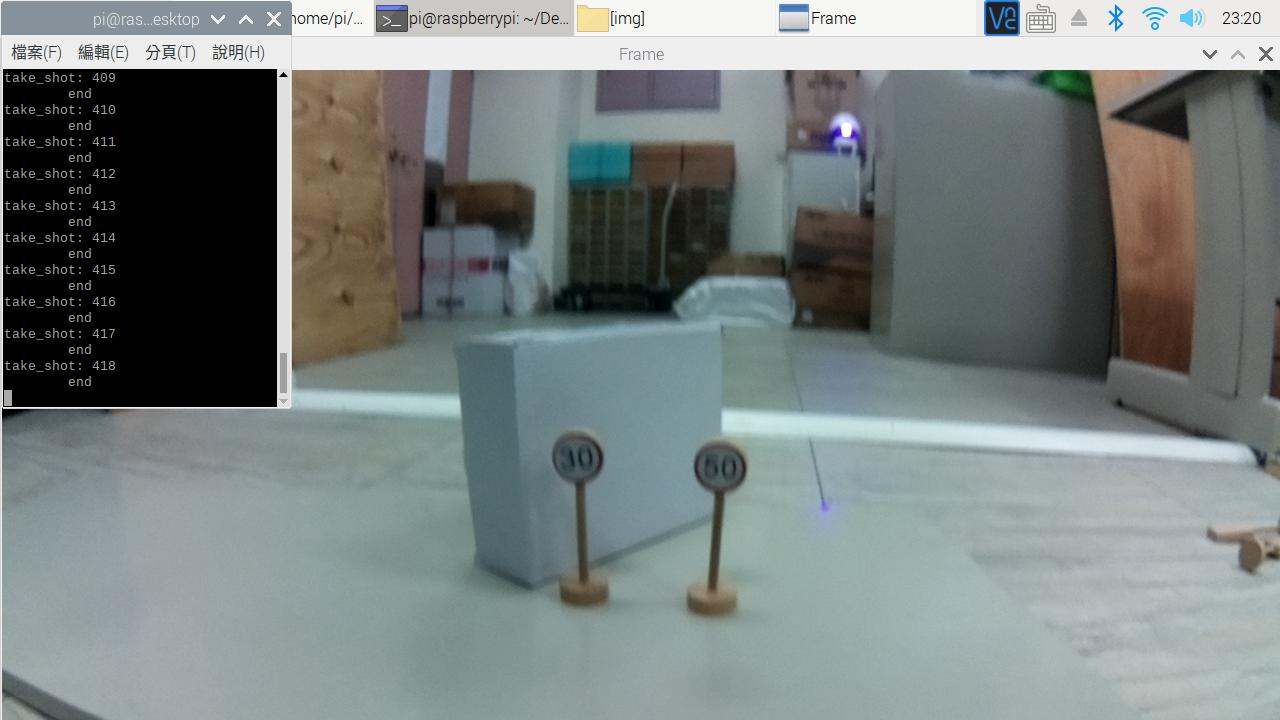Speed30: (533, 424, 617, 507)
Speed50: (687, 436, 752, 512)
